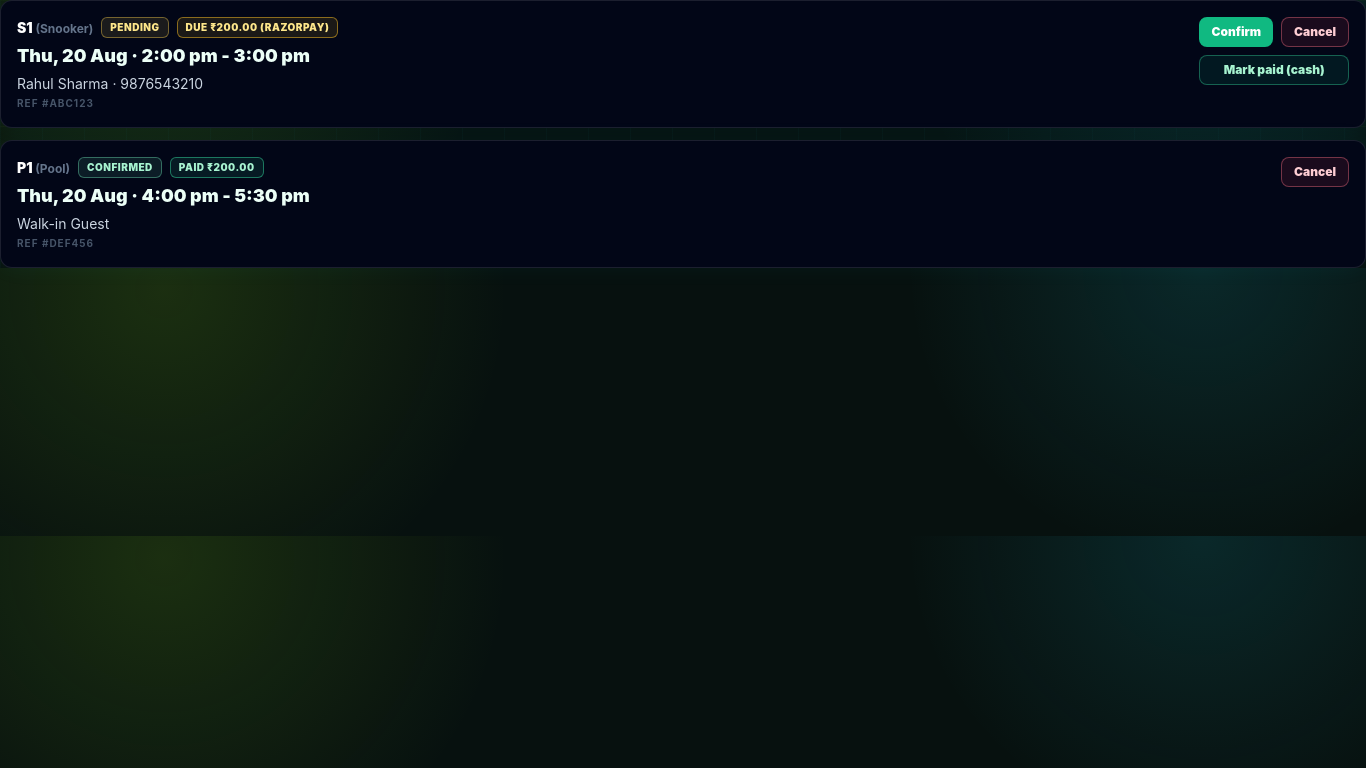
Test case: StaffBookingsPanel › disables action buttons while pending
Click the button "Confirm" at (1236, 32), box [1199,17,1273,47]
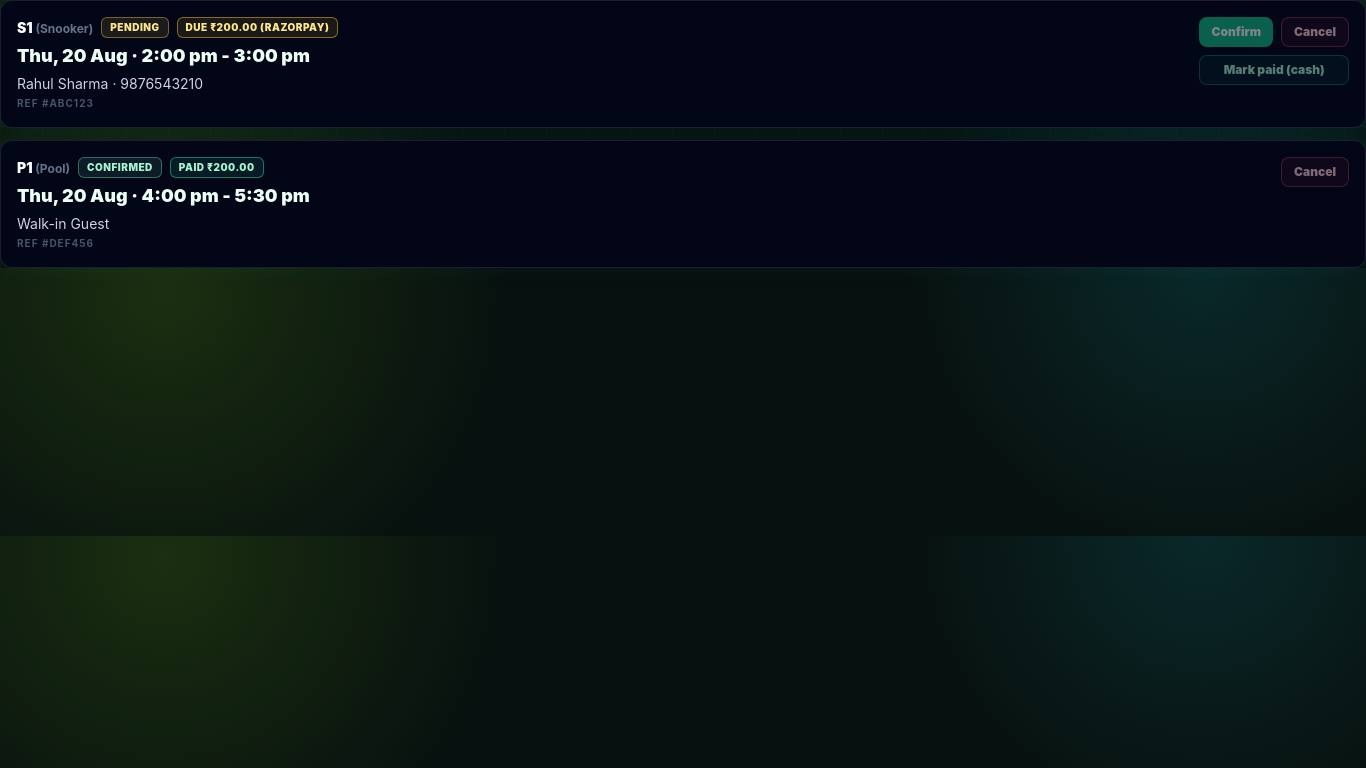
expect the button "Confirm" is disabled: met, box [1199,17,1273,47]
